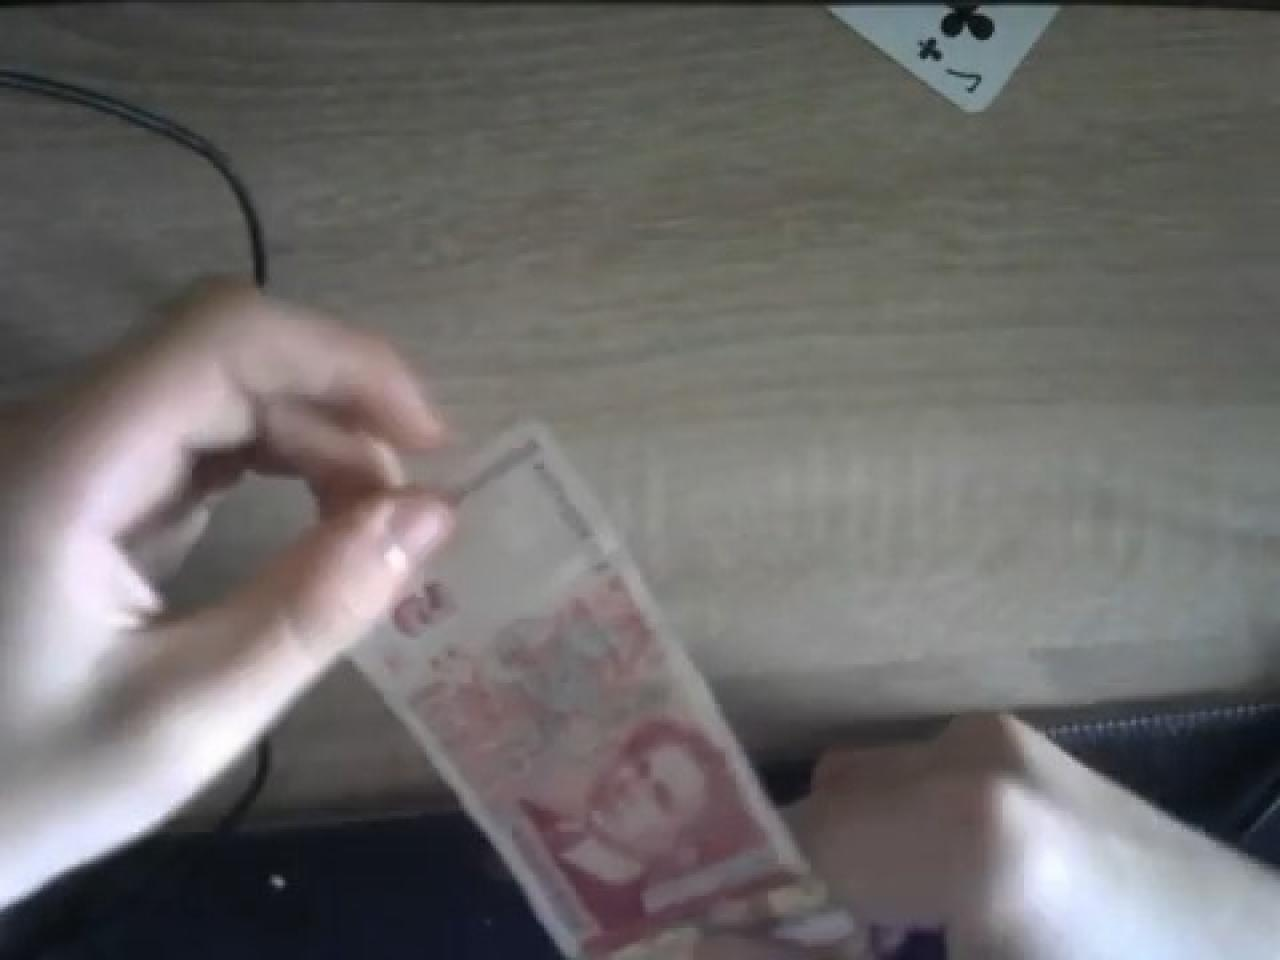5leva: (347, 416, 870, 960)
